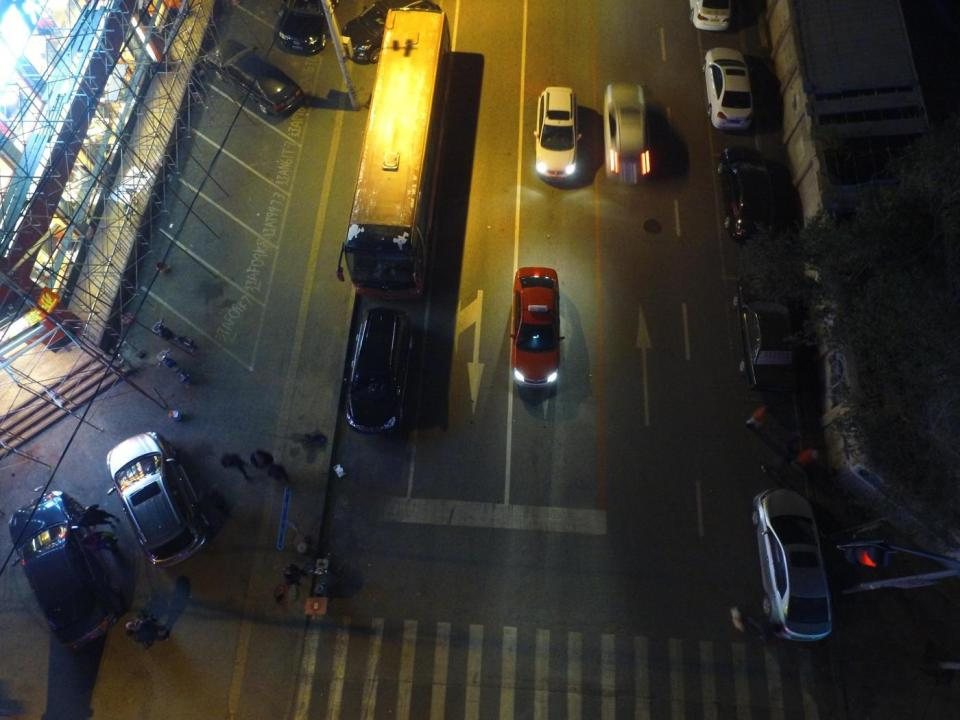car: (7, 490, 123, 650), (103, 430, 211, 568), (748, 488, 831, 642), (345, 307, 413, 437), (203, 41, 307, 117), (734, 272, 796, 391), (508, 266, 562, 388), (342, 0, 447, 59), (720, 144, 776, 246), (602, 81, 651, 182), (533, 86, 582, 181), (703, 47, 754, 132), (280, 0, 336, 54), (690, 0, 732, 33)
truck: (343, 7, 448, 301)
